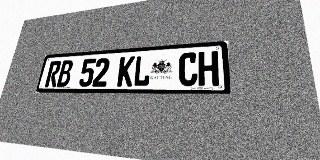2: (92, 57, 110, 87)
5: (78, 58, 96, 87)
B: (56, 60, 74, 87)
C: (178, 52, 198, 86)
H: (198, 51, 219, 86)
K: (117, 56, 135, 87)
L: (133, 55, 151, 86)
R: (45, 61, 62, 87)
